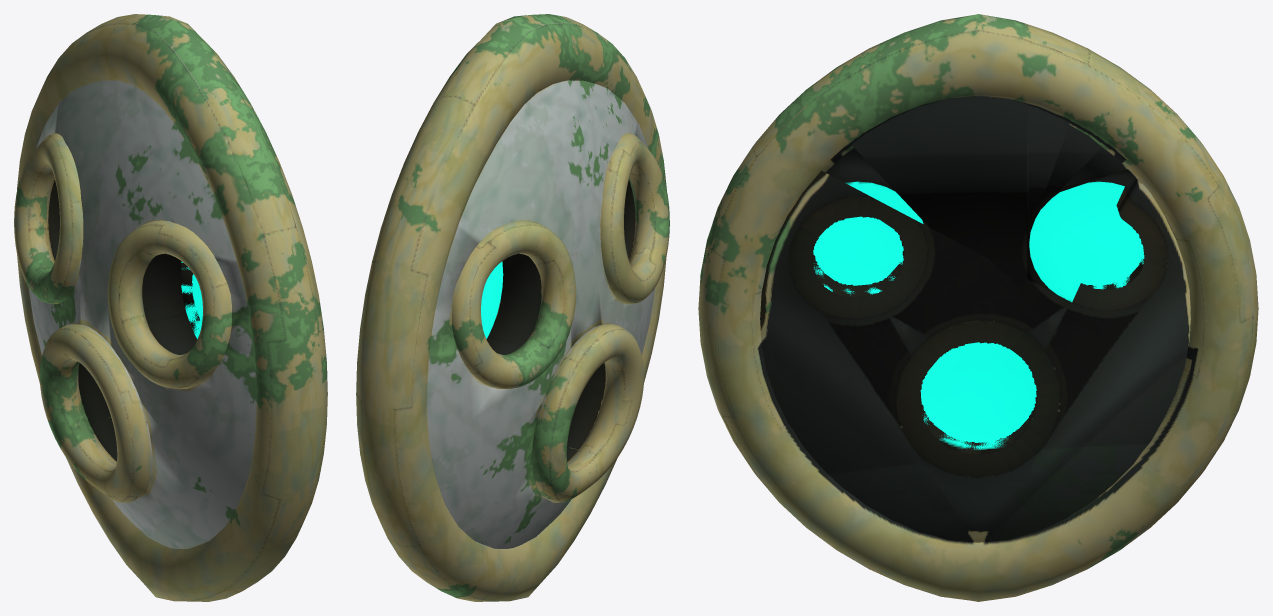
File: ArrowSlit.fbx
3 views of the same model, side by side, from view 1: azimuth 30°, elevation 25°; view 2: azimuth 150°, elevation 25°; view 3: azimuth 270°, elevation 25° (orthographic). The views are drawn at different scales.
Parts seen in each view (by area): view 1: ArrowSlit; view 2: ArrowSlit; view 3: ArrowSlit.
Boxes of the visible parts, left/top/right/bottom form: ArrowSlit: left=14, top=14, right=327, bottom=601; ArrowSlit: left=356, top=14, right=669, bottom=601; ArrowSlit: left=698, top=14, right=1258, bottom=601.
Bounding box in the file's own units: 60.74 × 255 × 220.
1 material, 1 textured.
